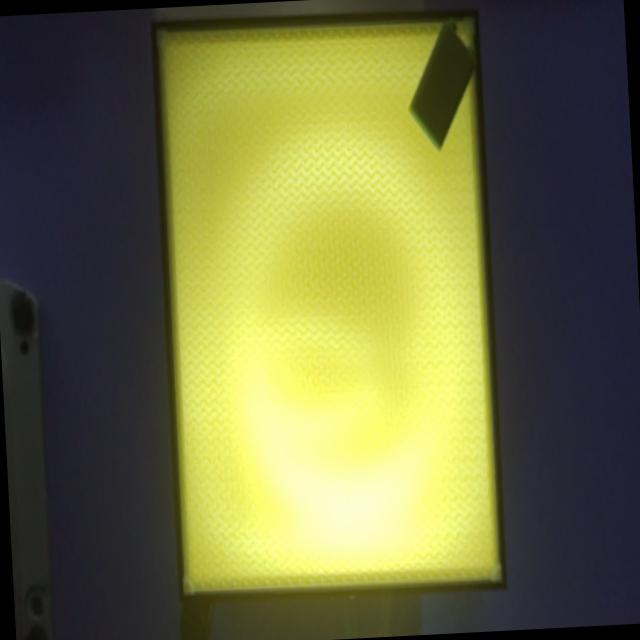bateria: (409, 17, 477, 151)
mesa: (151, 9, 507, 605)
